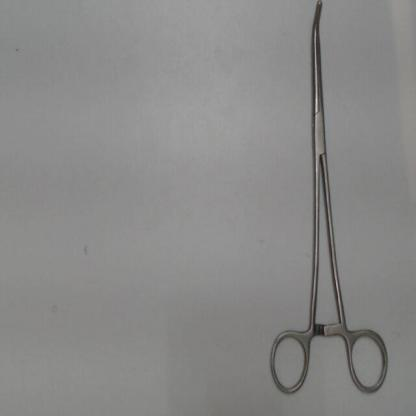Lahey Forceps: (265, 1, 391, 400)
